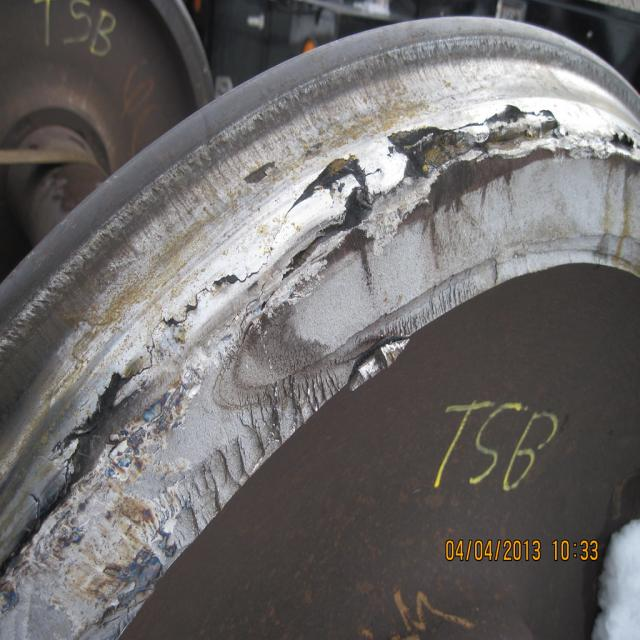Out_Of_Roundness: (31, 321, 213, 550), (261, 164, 420, 358), (419, 94, 596, 246)
